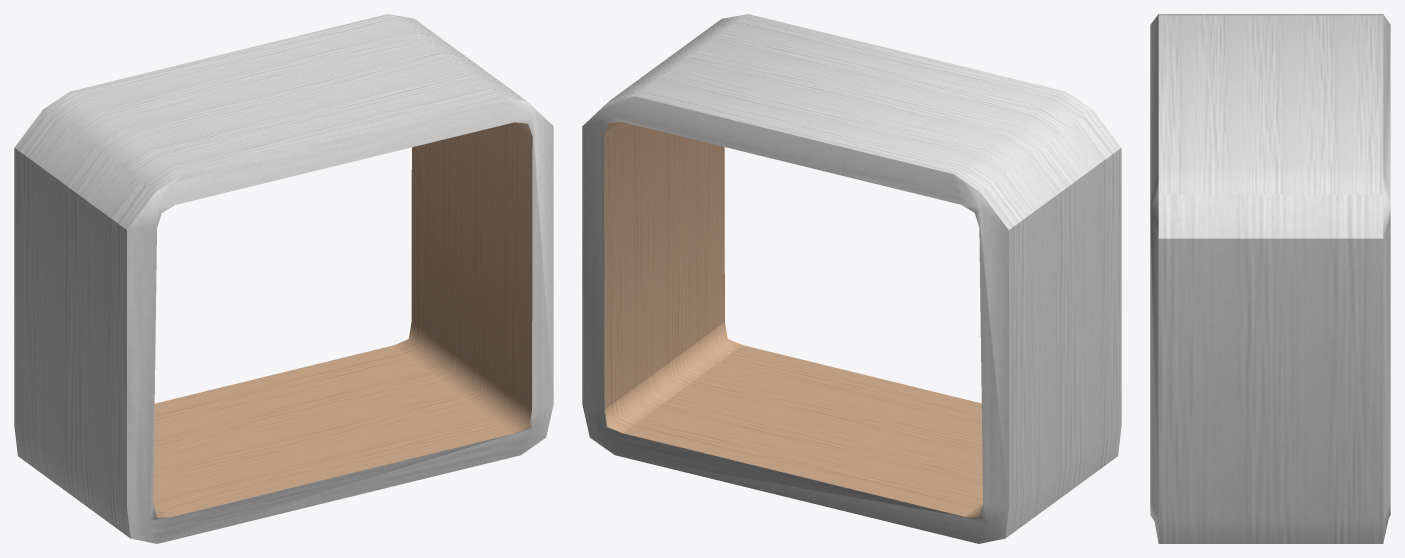
The model's file is Wall_Shelf_02_L.FBX.
3 renders of one model, left to right at view 1: azimuth 30°, elevation 25°; view 2: azimuth 150°, elevation 25°; view 3: azimuth 270°, elevation 25°, orthographic.
Visible parts, largest first — view 1: Wall_Shelf_02; view 2: Wall_Shelf_02; view 3: Wall_Shelf_02.
Boxes of the visible parts, x1=… form: Wall_Shelf_02: x1=14, y1=14, x2=553, y2=543; Wall_Shelf_02: x1=582, y1=14, x2=1121, y2=543; Wall_Shelf_02: x1=1150, y1=14, x2=1390, y2=543.
Bounding box in the file's own units: 120 × 98.08 × 58.85.
